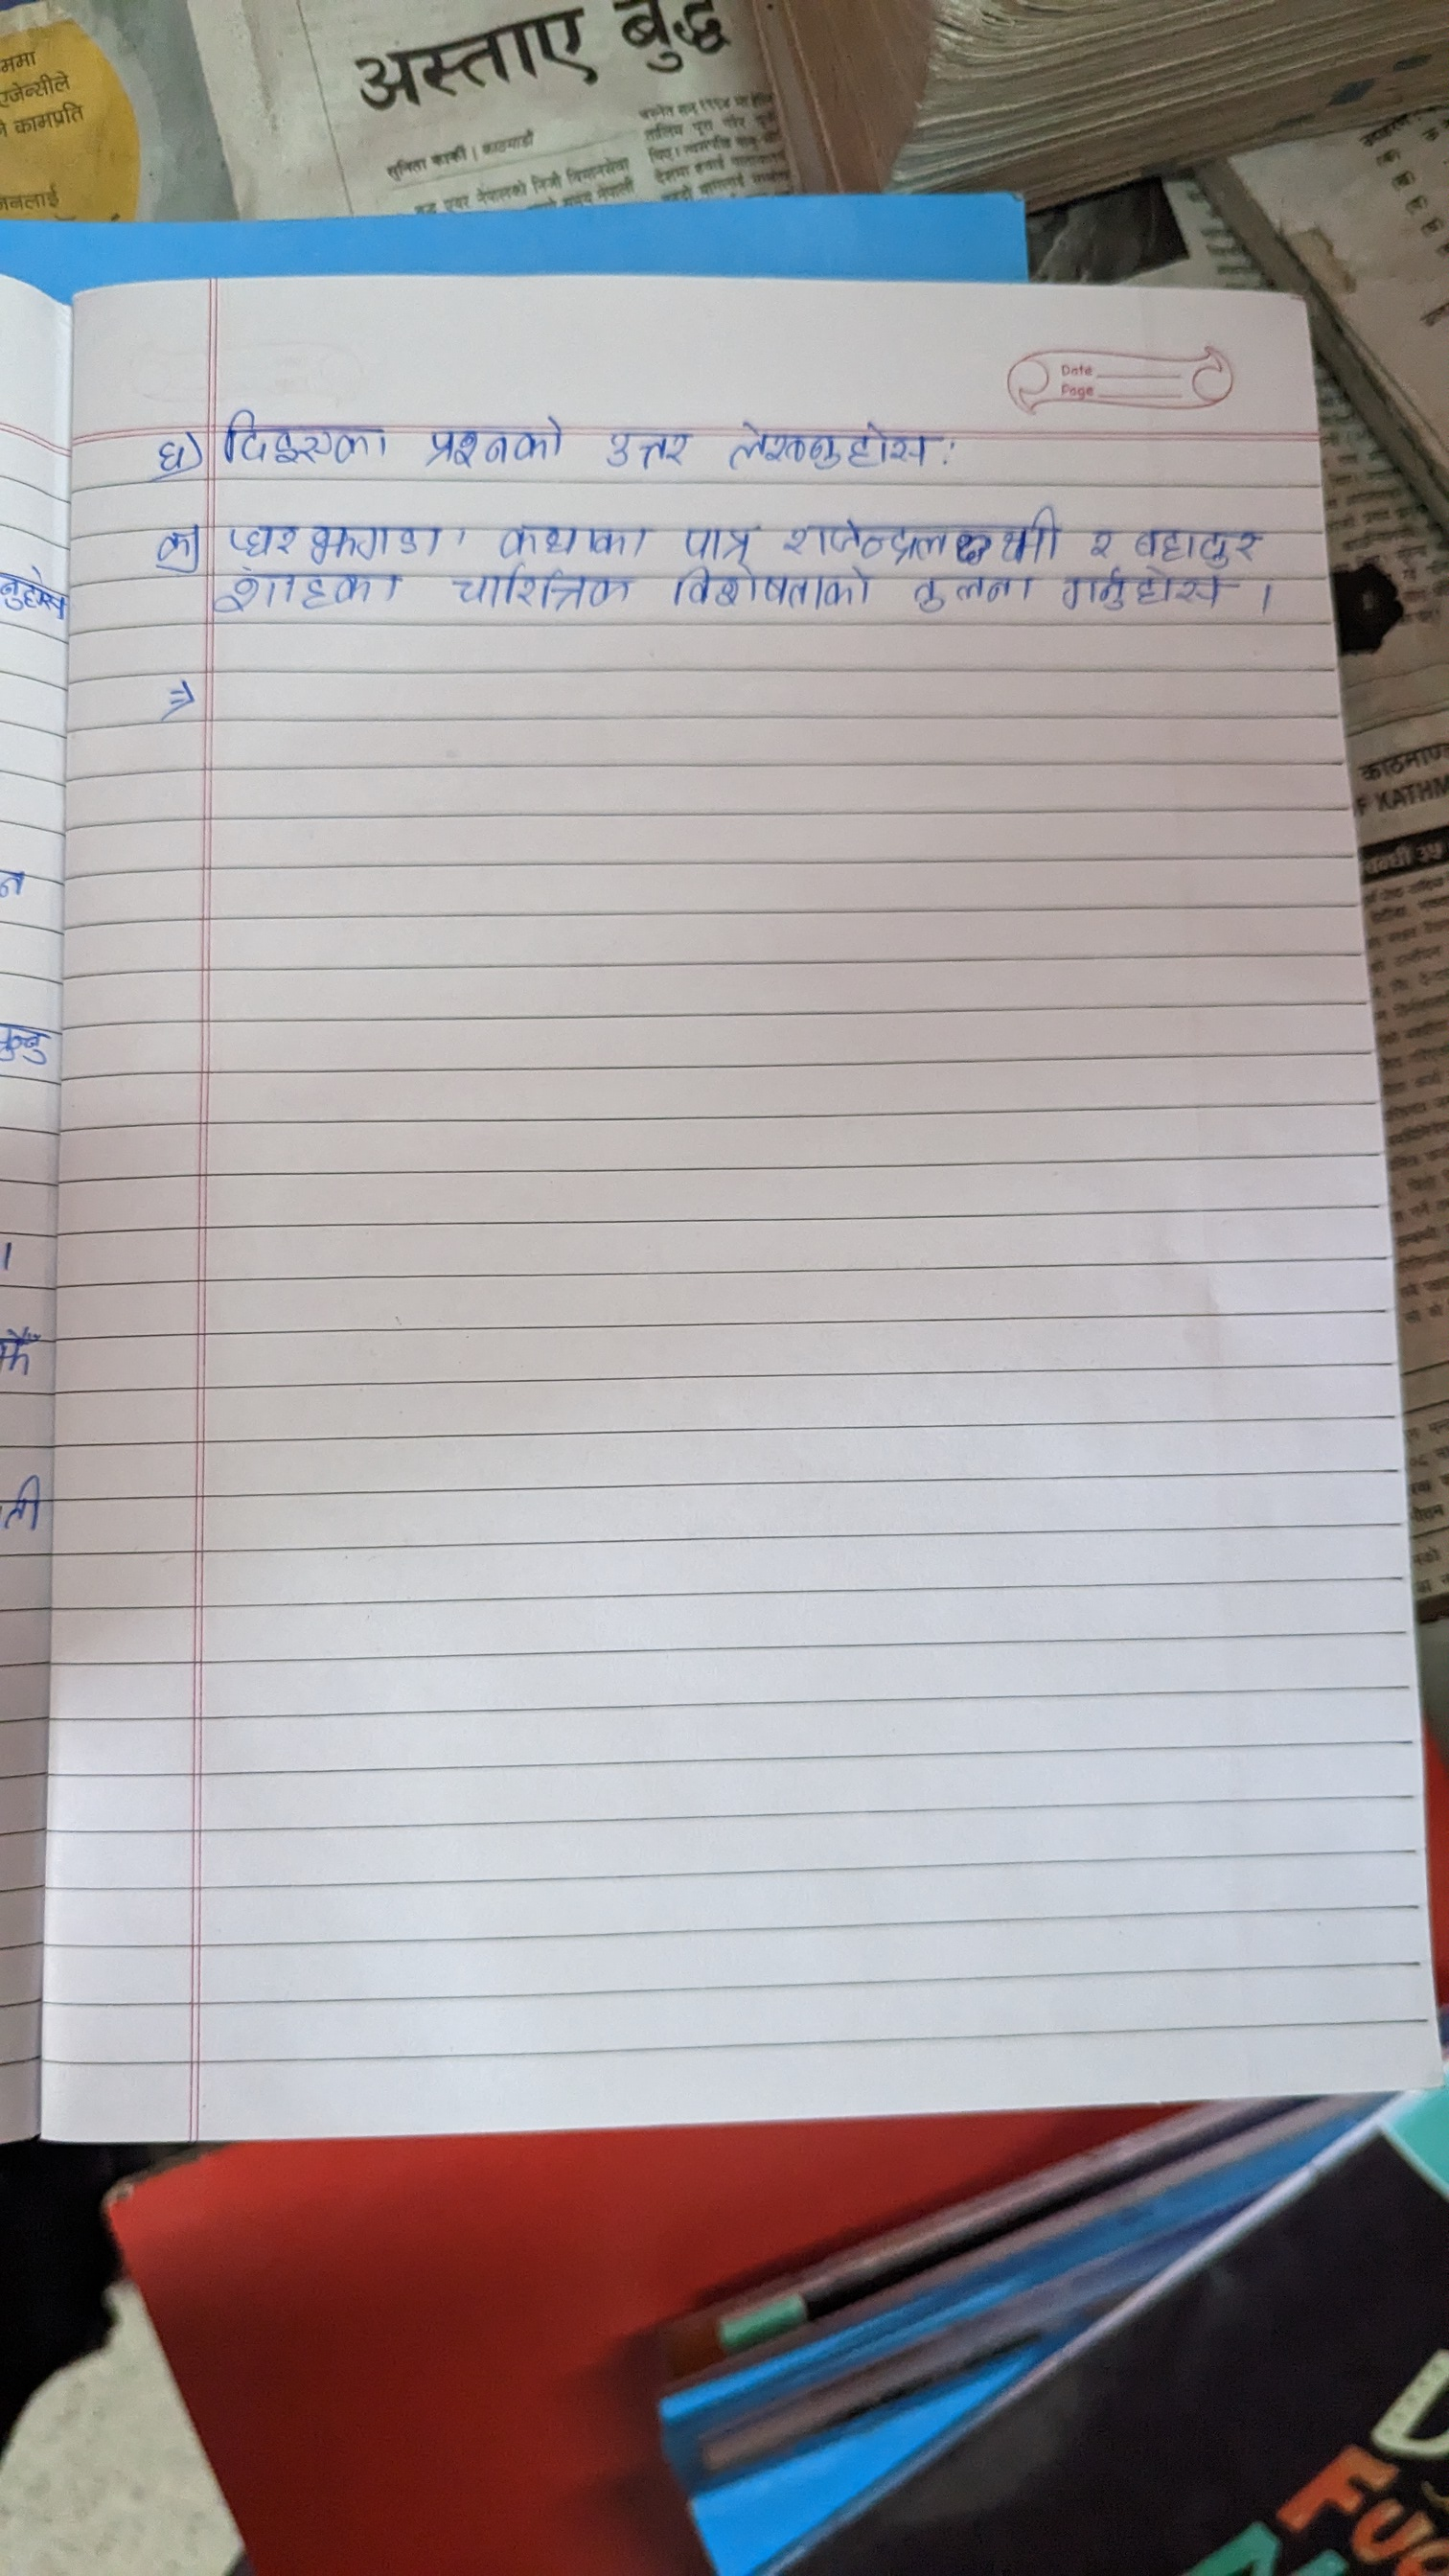text: (784, 506, 1065, 559), (722, 407, 932, 476), (212, 398, 391, 471), (418, 398, 568, 478), (667, 566, 878, 616), (239, 515, 444, 559), (1060, 570, 1235, 616), (453, 566, 633, 610), (485, 511, 648, 559), (223, 570, 396, 614), (1131, 515, 1267, 566), (602, 419, 694, 476), (913, 573, 1035, 612), (678, 515, 761, 561), (143, 520, 195, 571), (147, 425, 189, 471), (1086, 522, 1116, 561)
